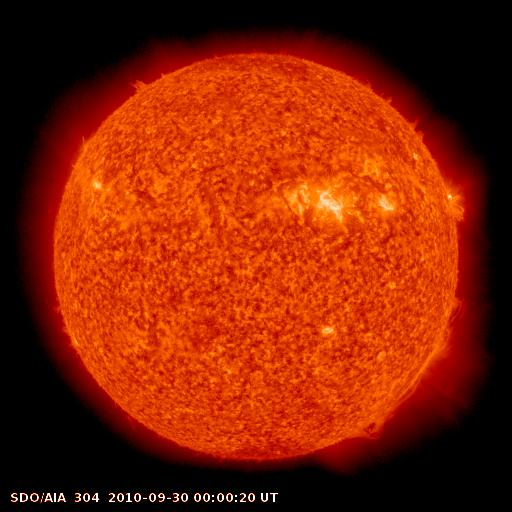prominence: (340, 380, 419, 448), (48, 299, 94, 366), (432, 289, 472, 358), (115, 68, 174, 98), (353, 74, 399, 109), (406, 109, 437, 151)
